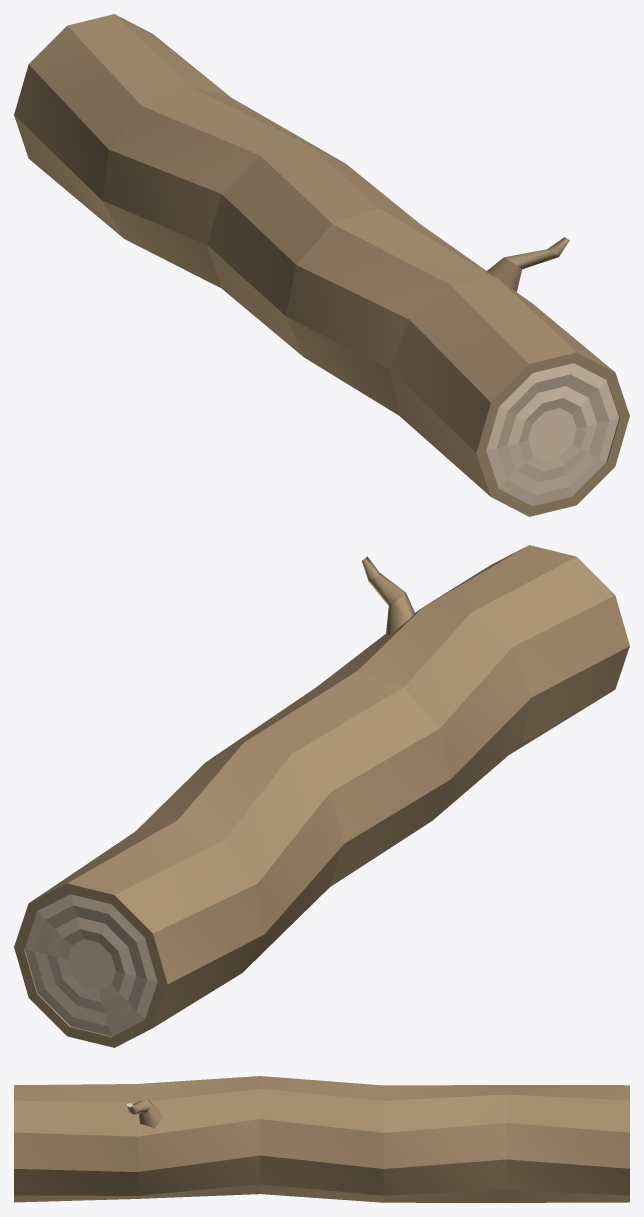
File: madeira.fbx
3 renders of one model, top to bottom at view 1: azimuth 30°, elevation 25°; view 2: azimuth 150°, elevation 25°; view 3: azimuth 270°, elevation 25°, orthographic. The views are drawn at different scales.
Visible parts, largest first — view 1: SketchUp; view 2: SketchUp; view 3: SketchUp.
Part boxes in pixels (x1,y1,x2,y2): SketchUp: [14, 14, 629, 516]; SketchUp: [14, 545, 629, 1047]; SketchUp: [14, 1076, 629, 1202].
Size of the model in its own units: 55 by 54.19 by 236.
